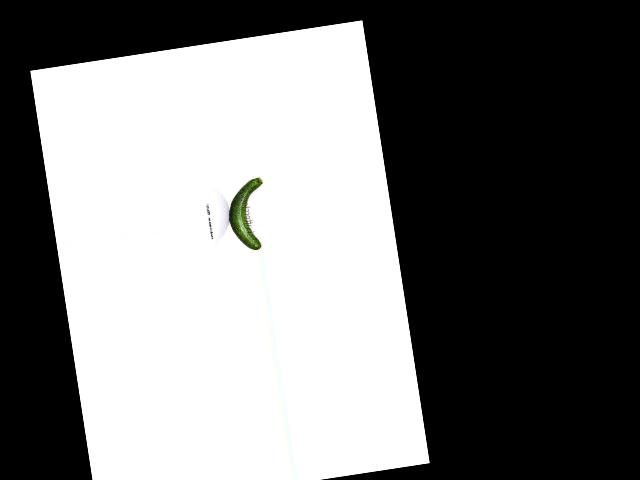cucumber: (223, 176, 272, 253)
